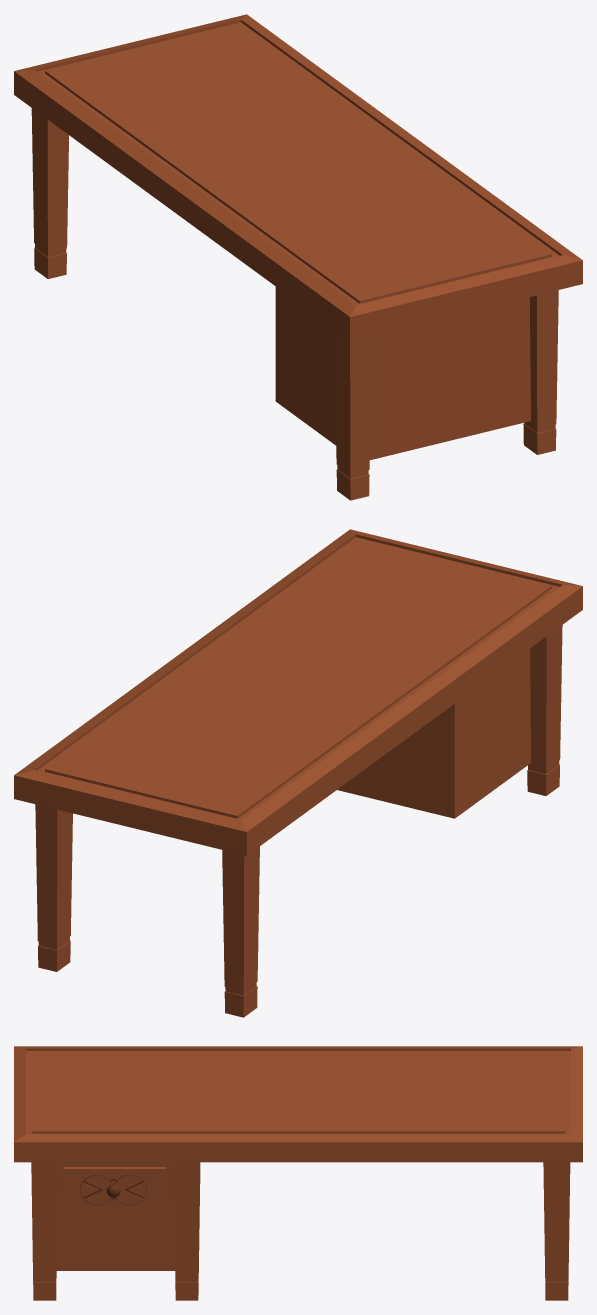
File: desk.glb
The picture shows the model from 3 angles, top to bottom: view 1: azimuth 30°, elevation 25°; view 2: azimuth 150°, elevation 25°; view 3: azimuth 270°, elevation 25°; orthographic projection. The views are drawn at different scales.
Visible parts, largest first — view 1: Cube.022, Cube.127, Cube.078, Cube.168, Cube.077; view 2: Cube.022, Cube.127, Cube.168, Cube.092, Cube.078; view 3: Cube.022, Cube.127, Cube.092, Cube.077, Cube.125, Cube.128, Cylinder.014, Cylinder.015.
Boxes of the visible parts, x1,y1,x2,y2 form: Cube.022: [14, 14, 582, 340]; Cube.127: [275, 287, 530, 460]; Cube.078: [334, 329, 371, 500]; Cube.168: [31, 108, 68, 278]; Cube.077: [523, 290, 558, 454]; Cube.022: [14, 529, 582, 855]; Cube.127: [337, 649, 530, 818]; Cube.168: [222, 846, 259, 1017]; Cube.092: [35, 804, 72, 971]; Cube.078: [527, 625, 562, 795]; Cube.022: [14, 1046, 582, 1162]; Cube.127: [56, 1162, 175, 1270]; Cube.092: [543, 1162, 570, 1300]; Cube.077: [31, 1162, 58, 1300]; Cube.125: [173, 1162, 200, 1300]; Cube.128: [63, 1167, 166, 1210]; Cylinder.014: [80, 1175, 112, 1205]; Cylinder.015: [114, 1175, 146, 1205].
Size of the model in its own units: 0.96 by 0.7801 by 2.4.
